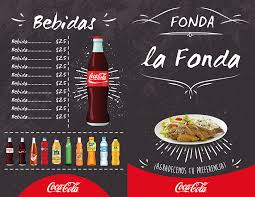coke: (81, 33, 117, 132)
